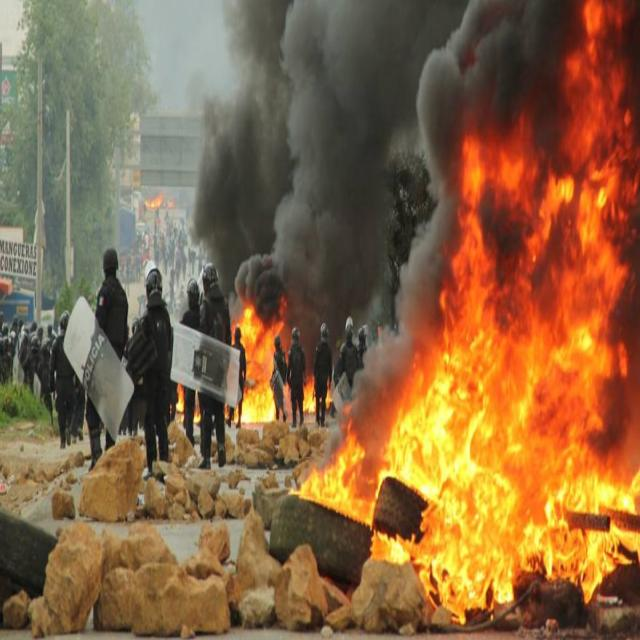fire: (373, 0, 640, 623), (290, 405, 374, 530), (231, 294, 285, 426), (371, 530, 413, 566)
